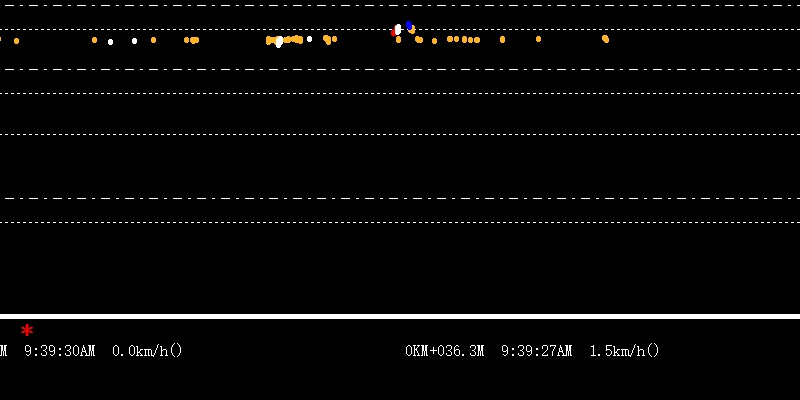face_s: (406, 18, 416, 33), (392, 20, 401, 36)
star: (18, 319, 34, 337)
